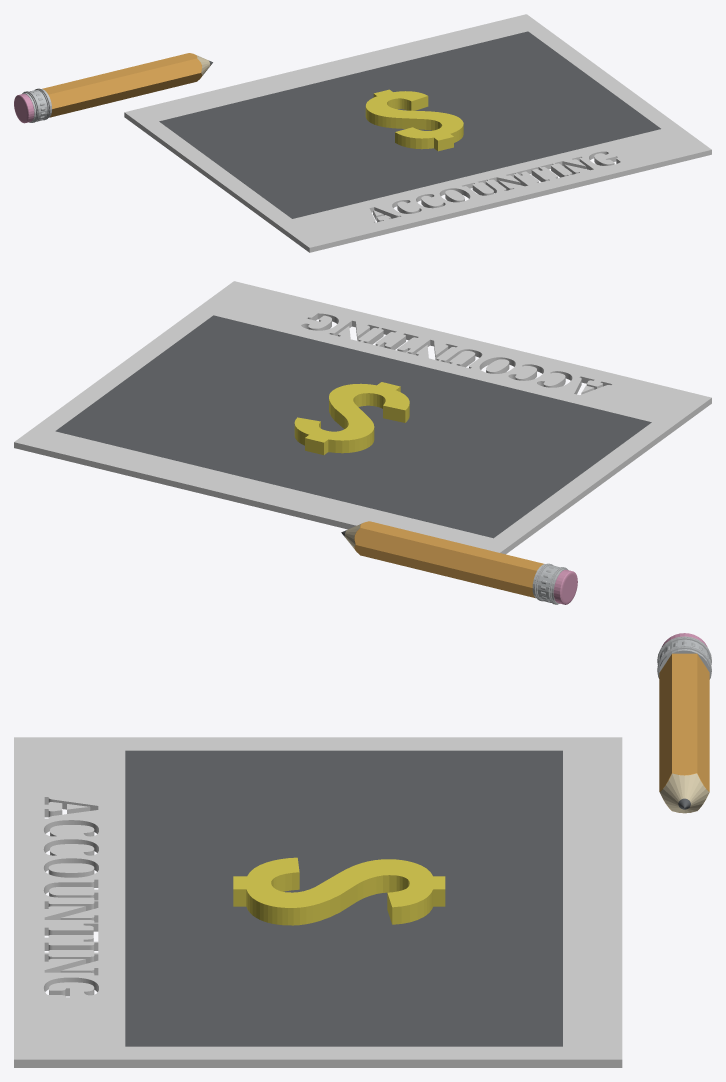
The model's file is asset.glb.
3 renders of one model, top to bottom at view 1: azimuth 30°, elevation 25°; view 2: azimuth 150°, elevation 25°; view 3: azimuth 270°, elevation 25°, orthographic. The views are drawn at different scales.
Parts seen in each view (by area): view 1: Mesh_Mesh_head_geo.001_lambert2SG.001; view 2: Mesh_Mesh_head_geo.001_lambert2SG.001; view 3: Mesh_Mesh_head_geo.001_lambert2SG.001.
Part boxes in pixels (x1,y1,x2,y2): Mesh_Mesh_head_geo.001_lambert2SG.001: [14, 14, 711, 252]; Mesh_Mesh_head_geo.001_lambert2SG.001: [14, 281, 711, 604]; Mesh_Mesh_head_geo.001_lambert2SG.001: [14, 633, 711, 1067].
Bounding box in the file's own units: 131 × 7.49 × 98.8.
